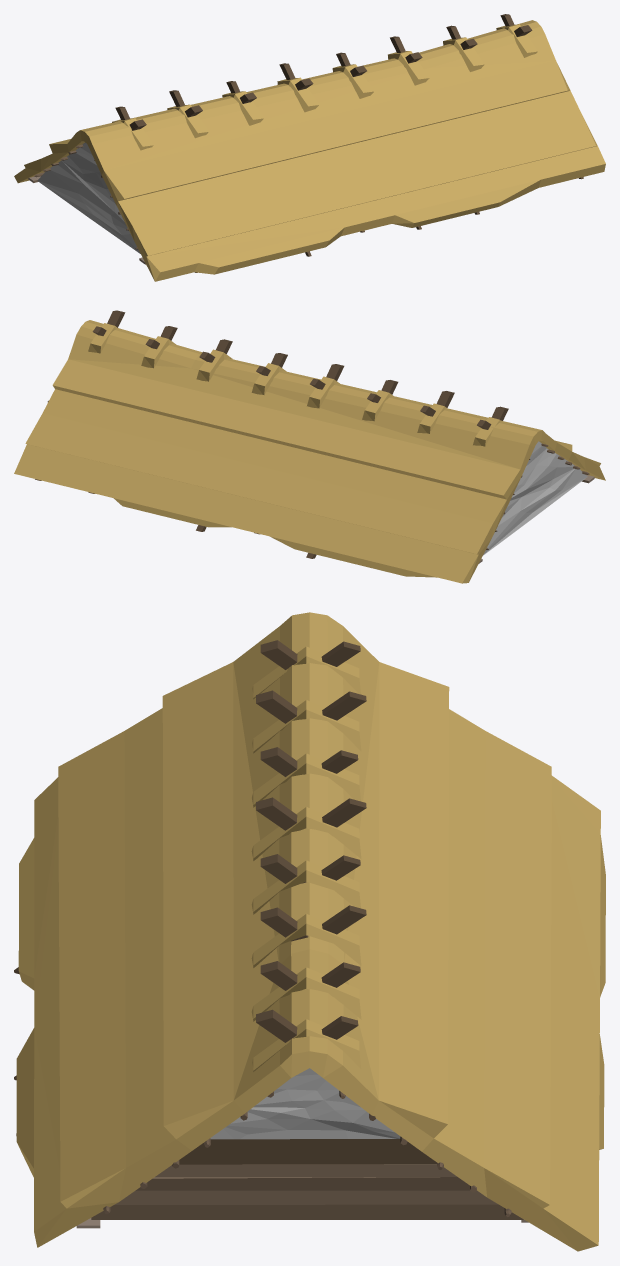
The model's file is EA03_Village_Hut_Roof_01c.fbx.
3 renders of one model, top to bottom at view 1: azimuth 30°, elevation 25°; view 2: azimuth 150°, elevation 25°; view 3: azimuth 270°, elevation 25°, orthographic. The views are drawn at different scales.
Visible parts, largest first — view 1: EA03_Village_Hut_Roof_01c_LOD0; view 2: EA03_Village_Hut_Roof_01c_LOD0; view 3: EA03_Village_Hut_Roof_01c_LOD0.
Boxes of the visible parts, left/top/right/bottom form: EA03_Village_Hut_Roof_01c_LOD0: left=14, top=14, right=605, bottom=281; EA03_Village_Hut_Roof_01c_LOD0: left=14, top=310, right=605, bottom=583; EA03_Village_Hut_Roof_01c_LOD0: left=14, top=612, right=605, bottom=1251.
Size of what is drawn, in the model's own units: 20.02 by 5.05 by 11.3.
